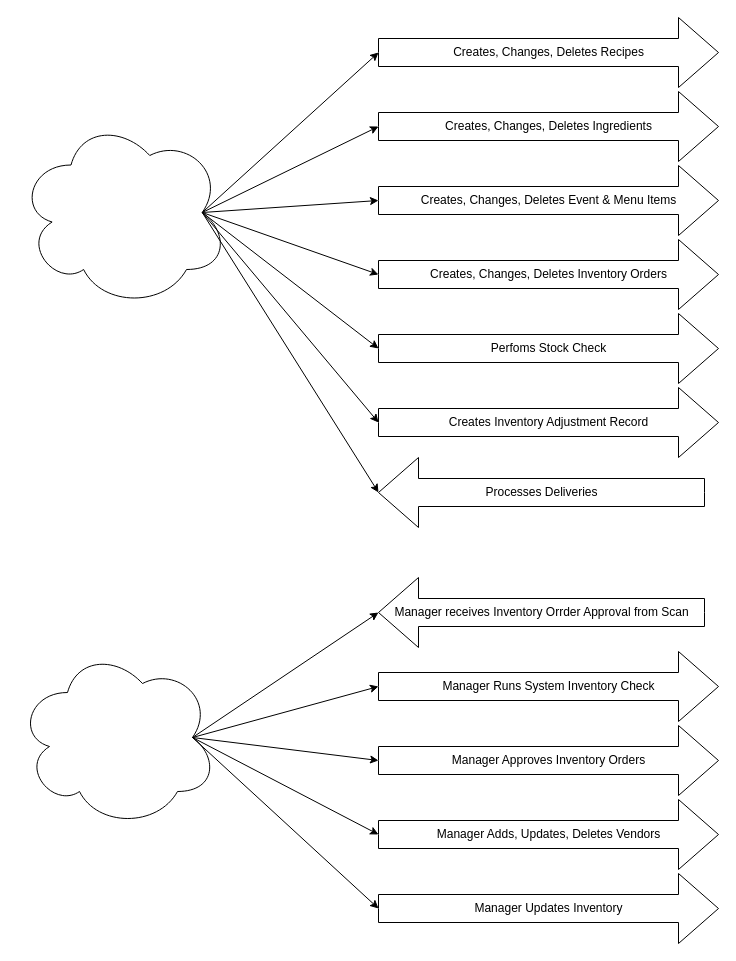
Image size: 736x961. Some labels were removed from this diagram. Here are the shapes that lost their labels. From the top down, the box of each, then its label:
(18, 116, 228, 308): Manager, Chef
(16, 646, 218, 828): Manager
